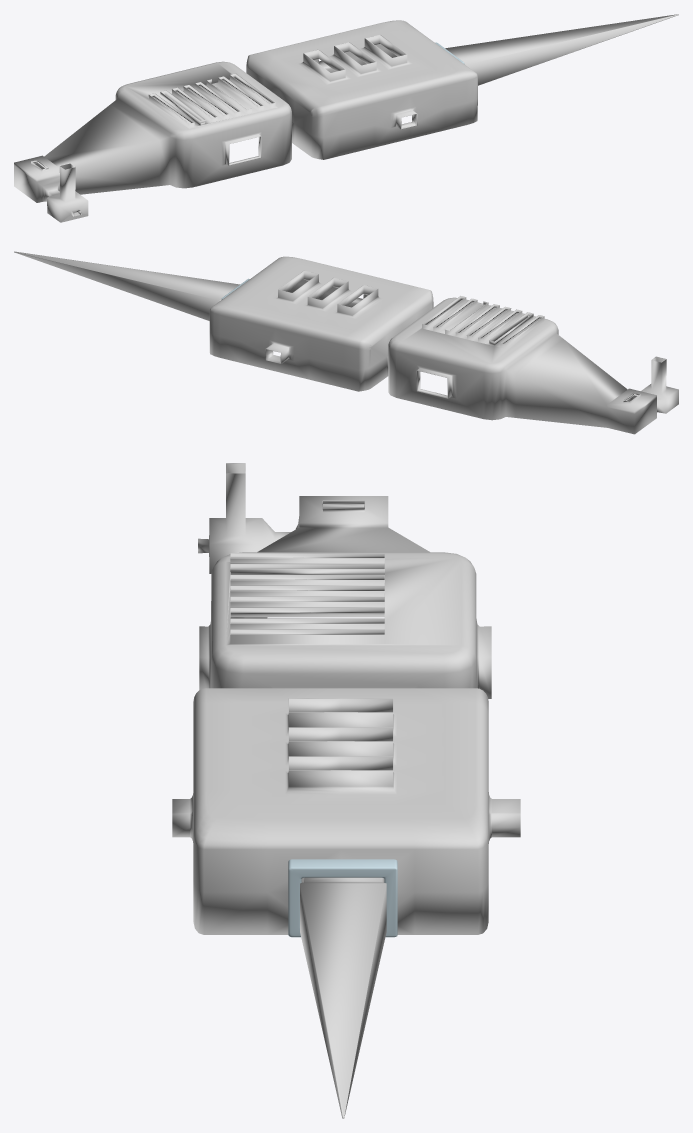
Rendered from piececart.fbx.
3 views of the same model, one above another, from view 1: azimuth 30°, elevation 25°; view 2: azimuth 150°, elevation 25°; view 3: azimuth 270°, elevation 25° (orthographic). The views are drawn at different scales.
Visible parts, largest first — view 1: Plane.007; view 2: Plane.007; view 3: Plane.007.
Part boxes in pixels (x1,y1,x2,y2): Plane.007: (14, 14, 678, 222); Plane.007: (14, 251, 678, 434); Plane.007: (172, 463, 520, 1118).
Size of the model in its own units: 56495 by 5277 by 13487.
